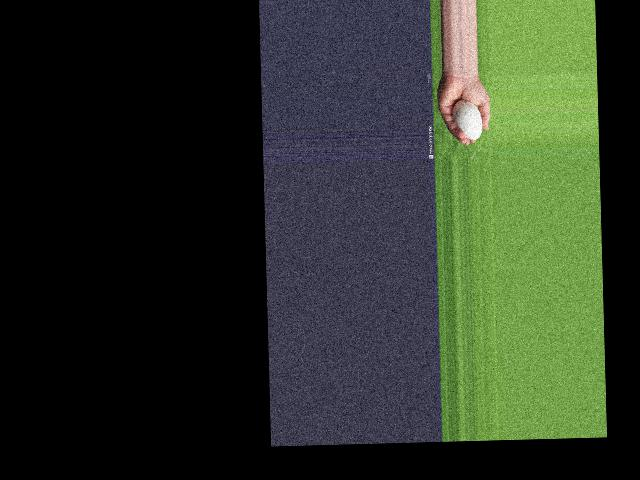egg: (451, 98, 482, 139)
